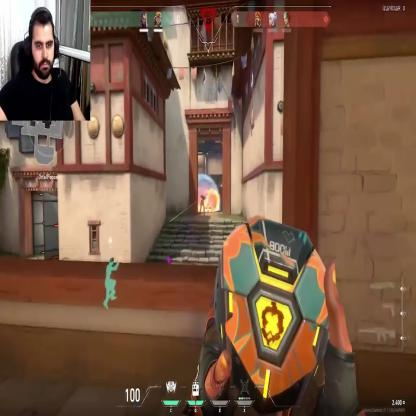enemy: (199, 193, 205, 215)
enemy_head: (201, 193, 203, 196)
